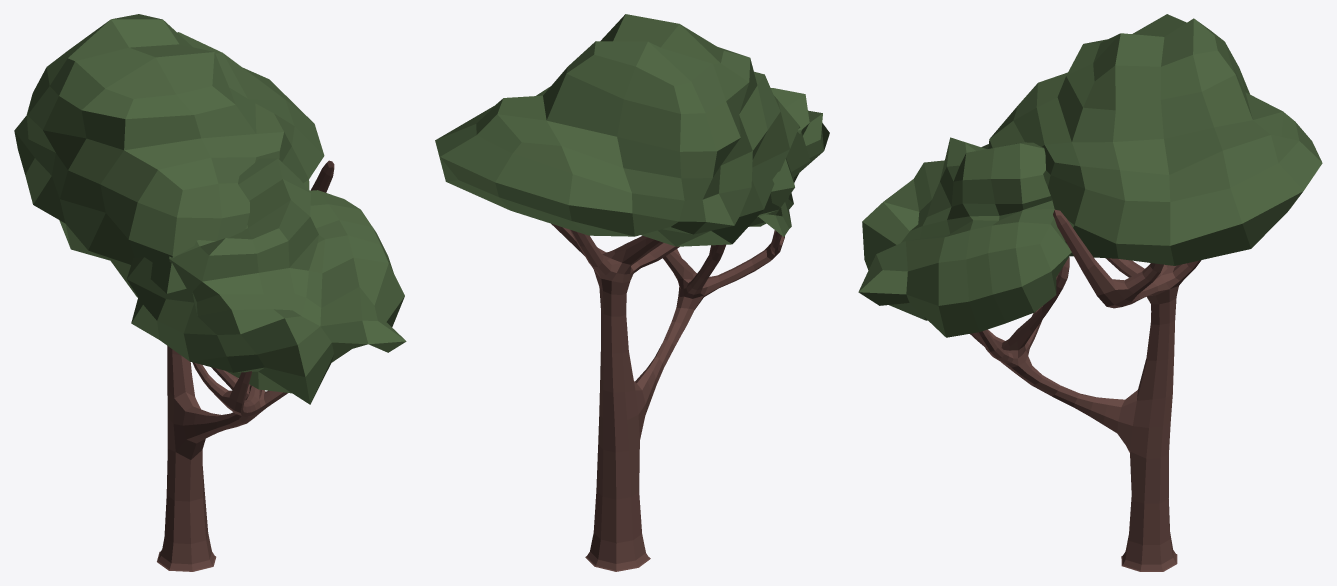
The model's file is CommonTree_2.glb.
3 views of the same model, side by side, from view 1: azimuth 30°, elevation 25°; view 2: azimuth 150°, elevation 25°; view 3: azimuth 270°, elevation 25° (orthographic). The views are drawn at different scales.
Visible parts, largest first — view 1: CommonTree; view 2: CommonTree; view 3: CommonTree.
Boxes of the visible parts, x1,y1,x2,y2 form: CommonTree: (14,14,406,571); CommonTree: (435,14,829,571); CommonTree: (858,14,1322,571).
Size of the model in its own units: 1.66 by 3.12 by 2.54.
